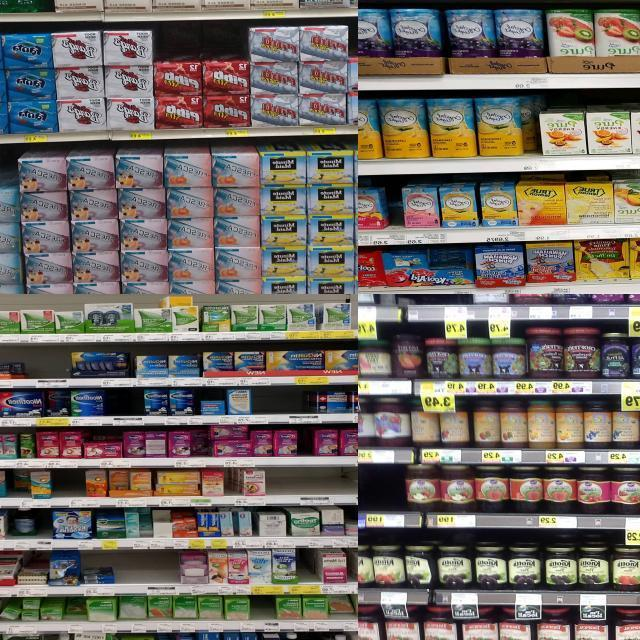Imprecise: (36, 388, 72, 418), (9, 508, 39, 542), (187, 428, 217, 460), (65, 594, 93, 626), (7, 467, 30, 498)
